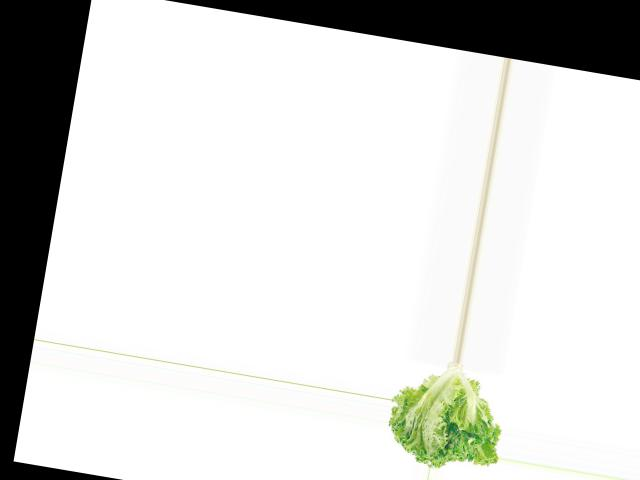lettuce: (382, 353, 511, 477)
